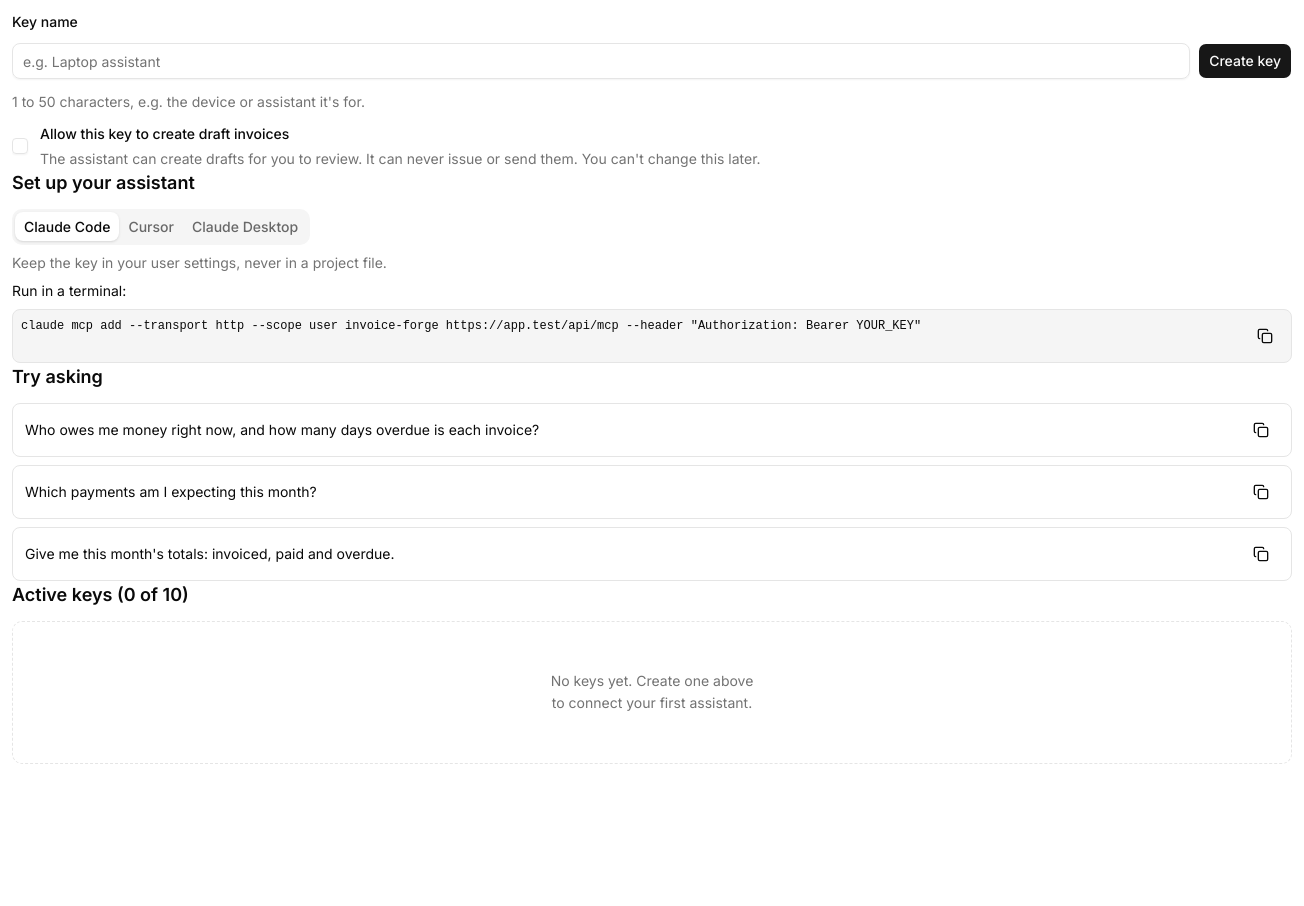
Test: create › a second create replaces the reveal with the newer key
The width and height of the screenshot is (1304, 906).
Type "First" into the field labelled "Key name". click: (601, 61)
box: [12, 43, 1190, 79]
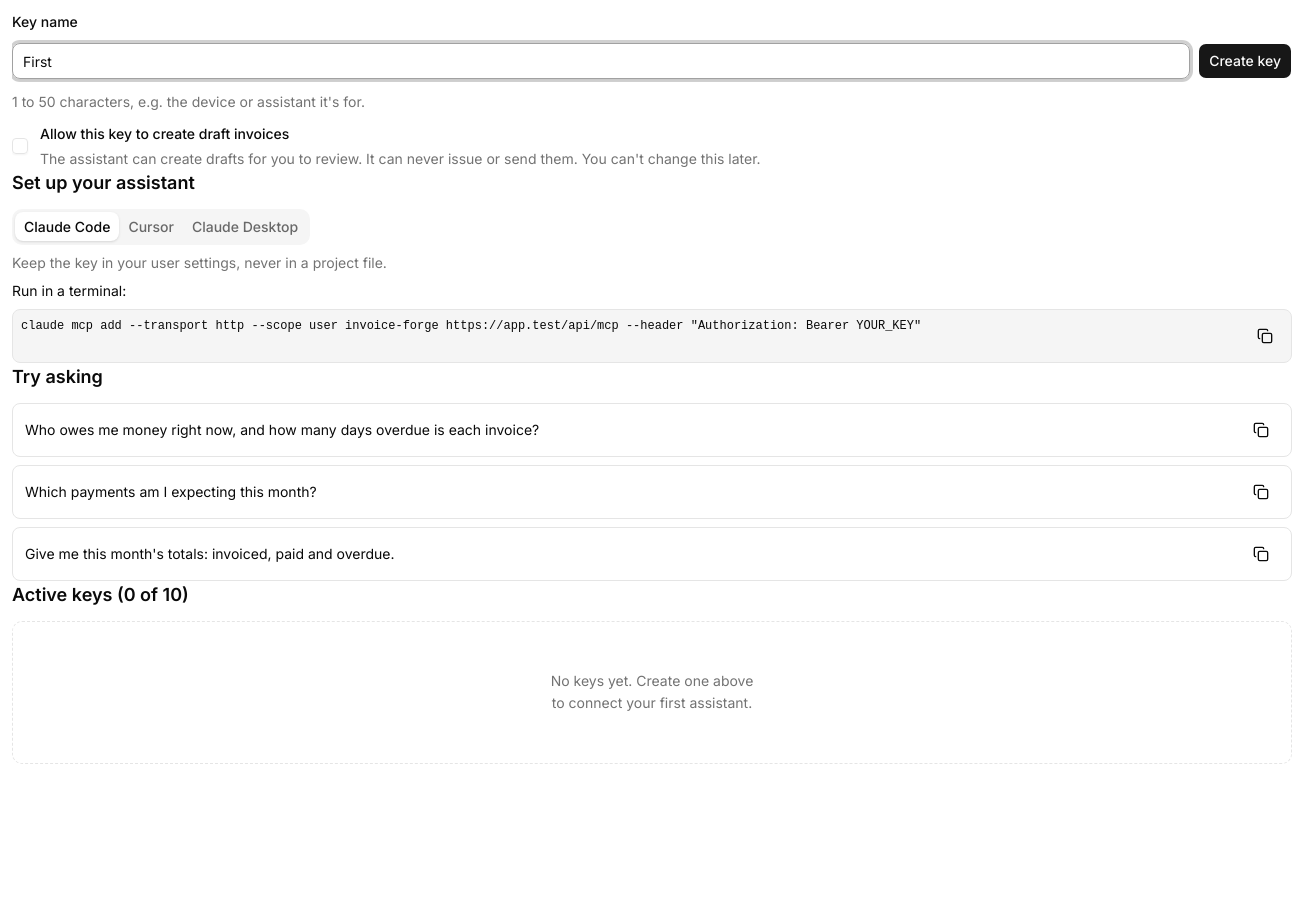
Click the button "Create key". click: (1245, 61)
box: [1198, 43, 1292, 79]
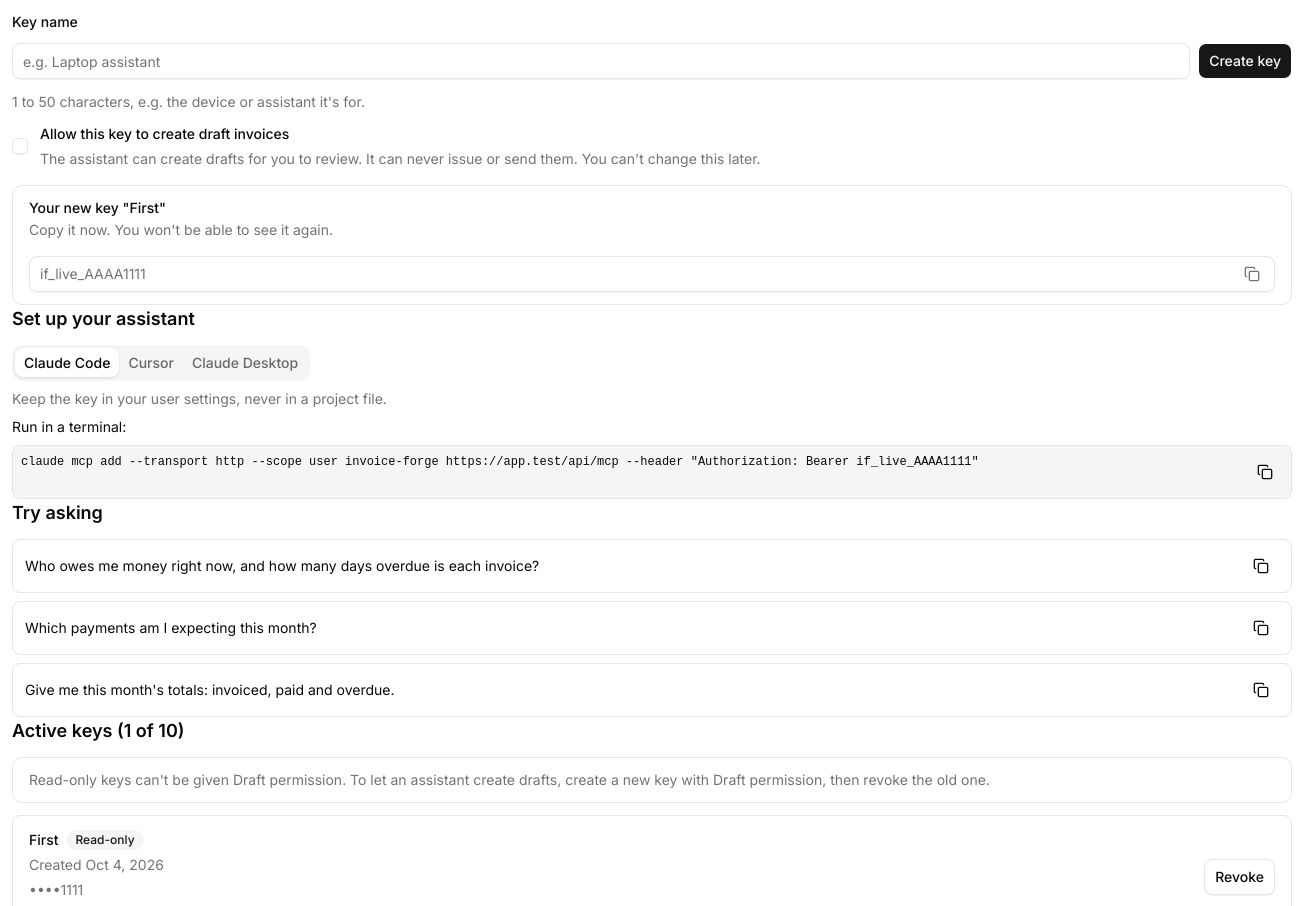
Now the text "Your new key \"First\"" is shown, box [29, 198, 166, 216]
Type "Second" into the field labelled "Key name". click: (601, 61)
box: [12, 43, 1190, 79]
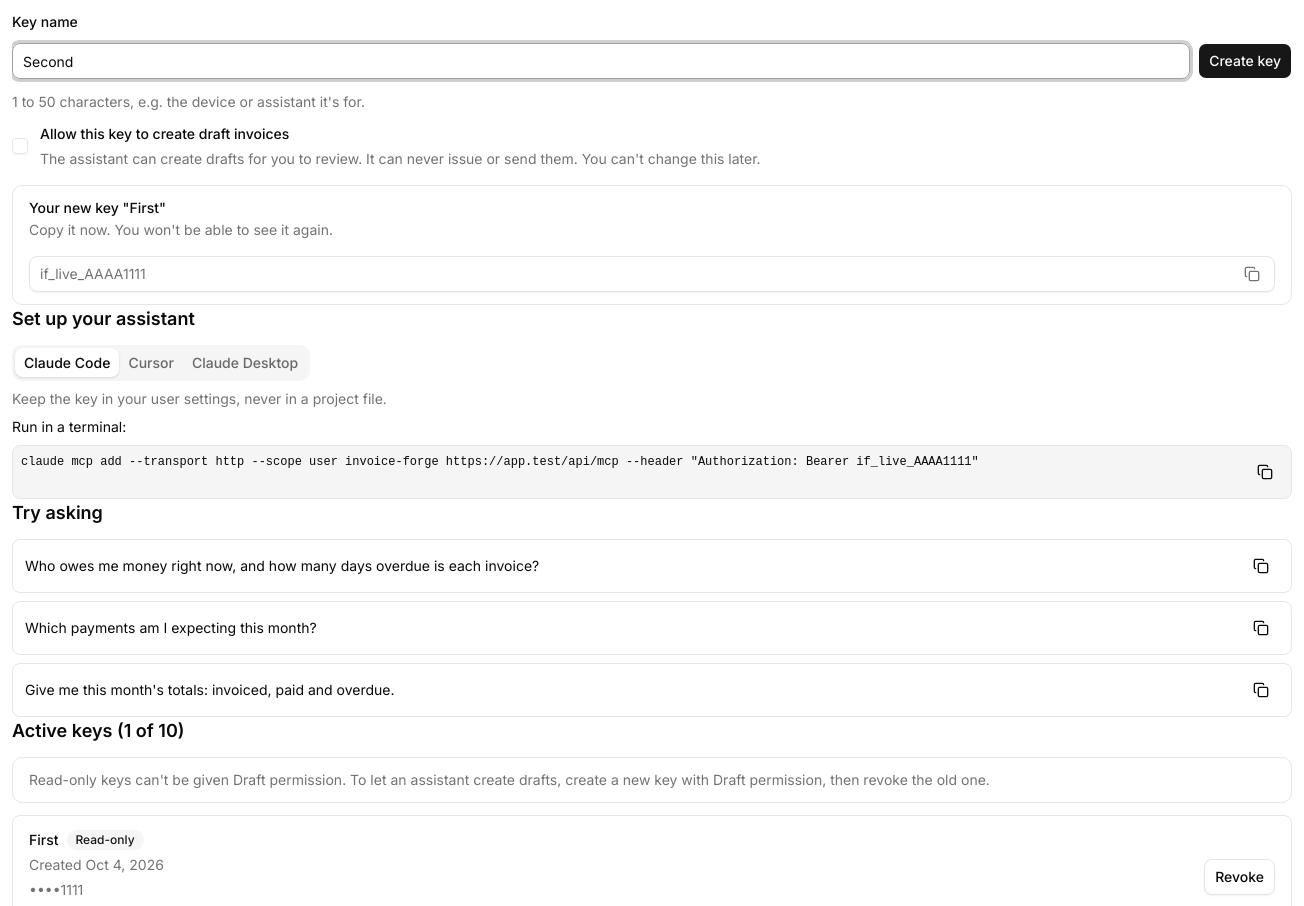
Click the button "Create key". click: (1245, 61)
box: [1198, 43, 1292, 79]
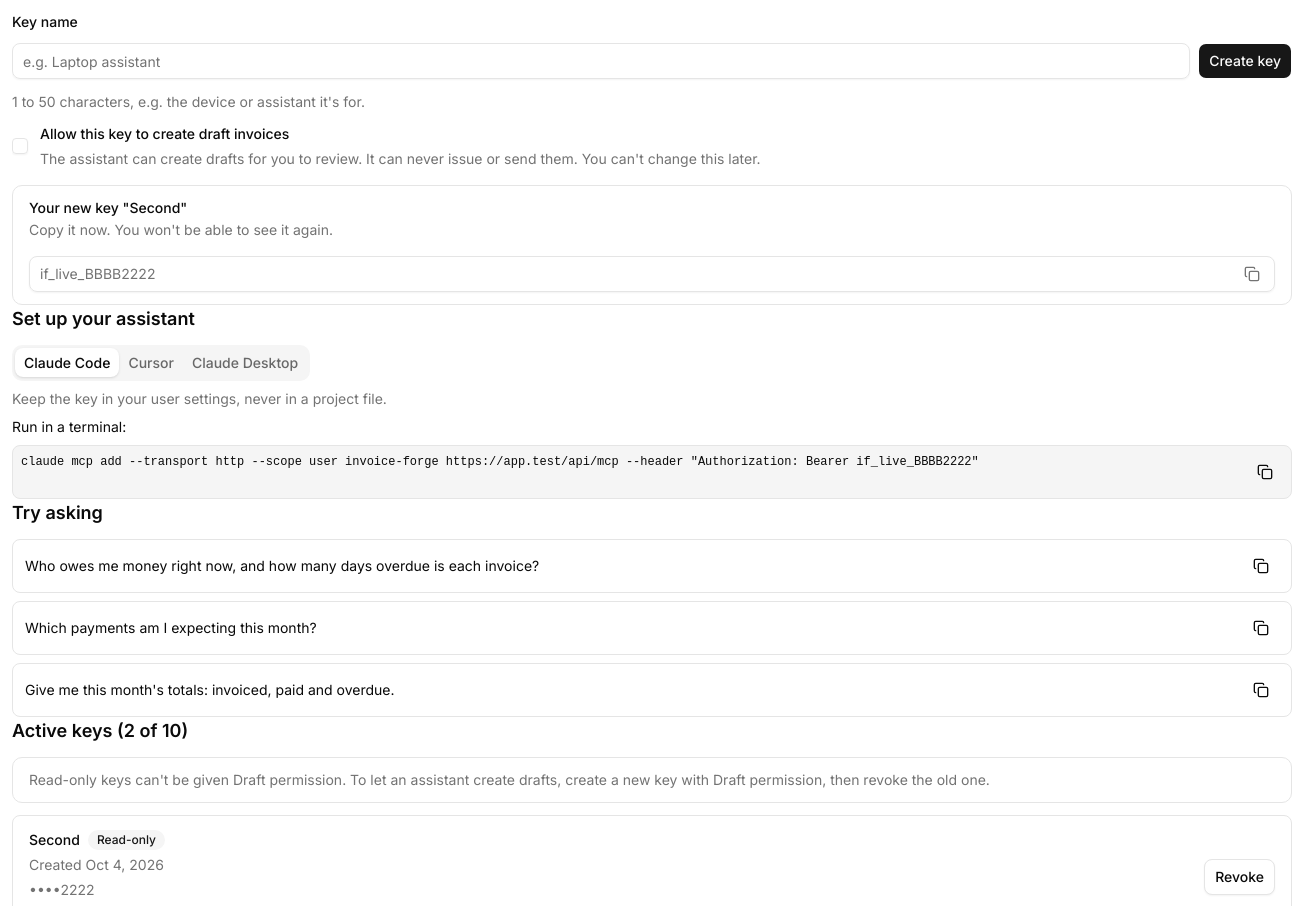
Now the text "Your new key \"Second\"" is shown, box [29, 198, 187, 216]
Now the text "Your new key \"First\"" is gone
Now the text showing "if_live_AAAA1111" is gone
